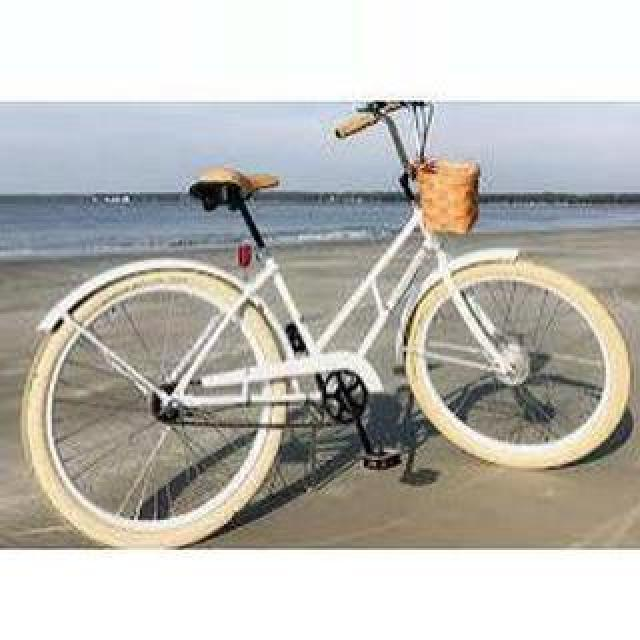Person: (20, 101, 632, 549)
